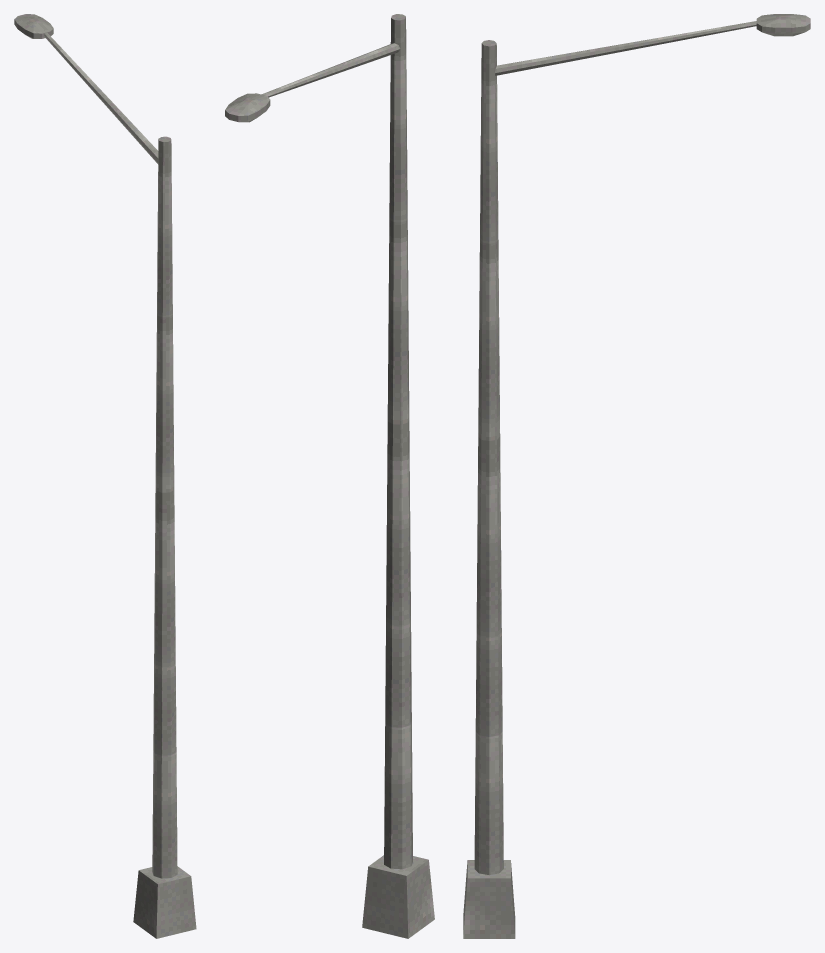
The model's file is streetlamp_01.gltf.
The picture shows the model from 3 angles, left to right: view 1: azimuth 30°, elevation 25°; view 2: azimuth 150°, elevation 25°; view 3: azimuth 270°, elevation 25°; orthographic projection. The views are drawn at different scales.
Parts seen in each view (by area): view 1: streetlamp_01; view 2: streetlamp_01; view 3: streetlamp_01.
Part boxes in pixels (bbox=[...]): streetlamp_01: bbox=[14, 14, 196, 938]; streetlamp_01: bbox=[225, 14, 434, 938]; streetlamp_01: bbox=[463, 14, 810, 938].
Bounding box in the file's own units: 0.48 × 9.27 × 3.2.
Materials: 1 (1 with a texture image).
